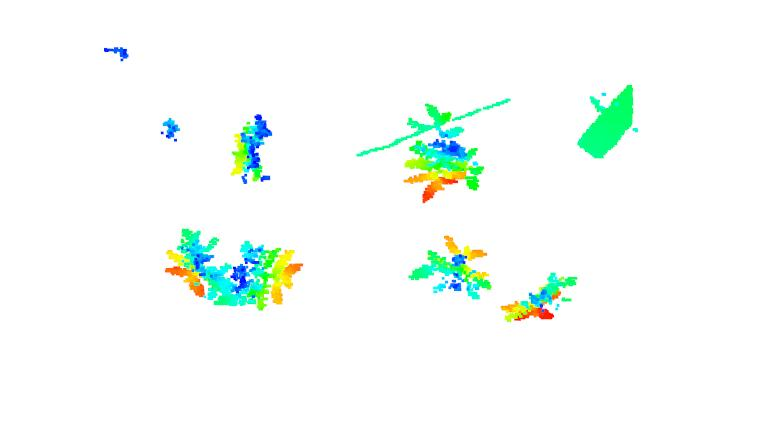chickpea: (404, 102, 481, 202), (164, 227, 233, 304), (410, 236, 493, 298), (233, 242, 301, 303), (503, 270, 579, 322), (227, 114, 275, 180)
